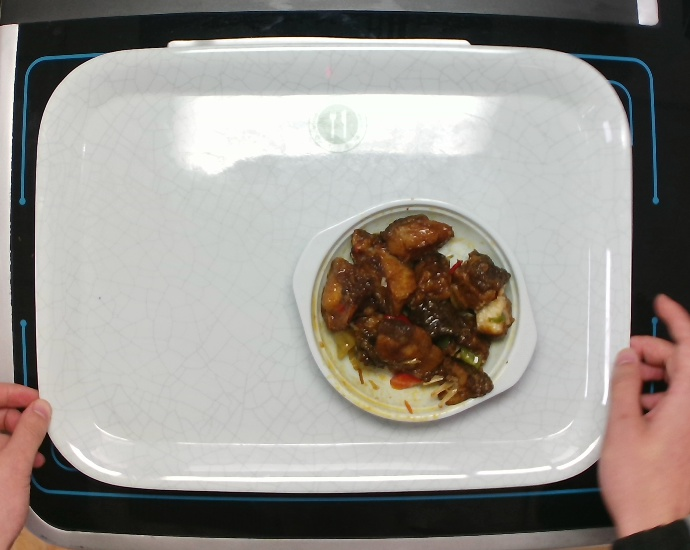JYsf-Shuang_Er_Pan: (299, 172, 535, 425)
